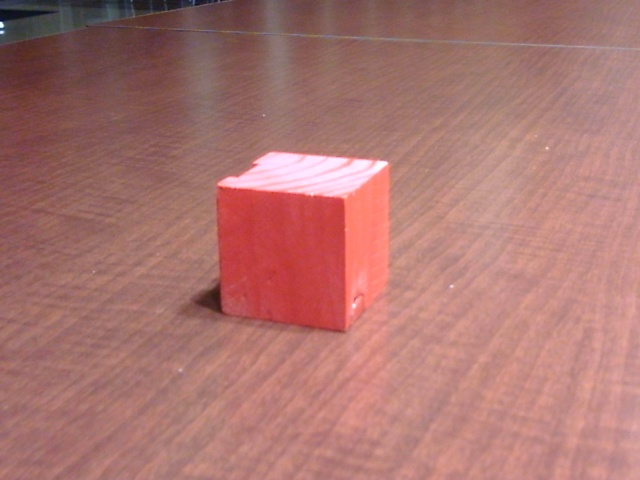RedBlock: (216, 184, 371, 333)
